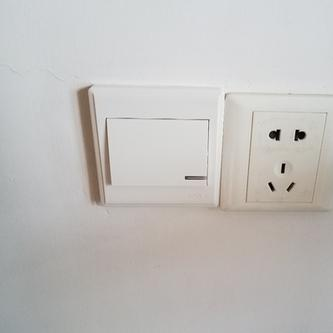switch: (103, 115, 211, 189)
